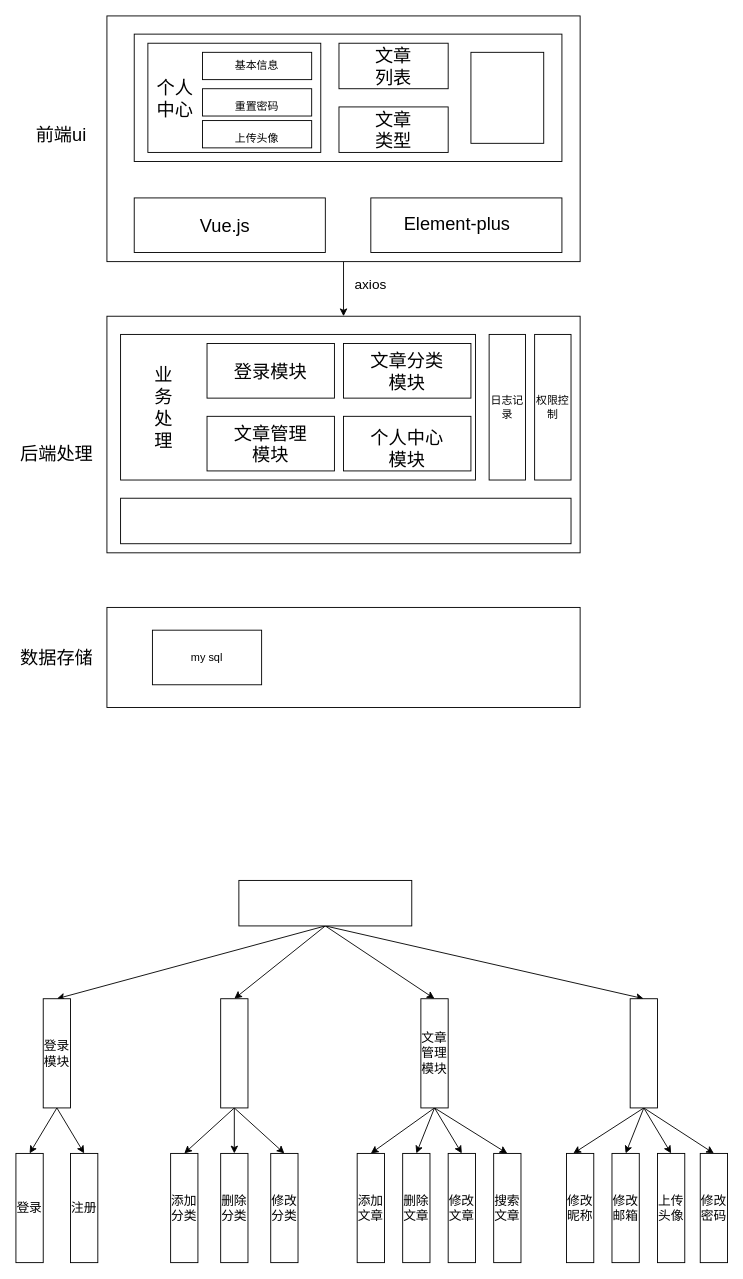
Image size: 743x1279. Some labels were removed from this diagram. Here are the shapes that lost their labels. From the top down, the centre of each, then its label:
[507,97]: 登录/注册
[345,520]: nest.js
[325,903]: 文章管理系统
[234,1053]: 文章分类管理模块
[643,1053]: 用户模块
